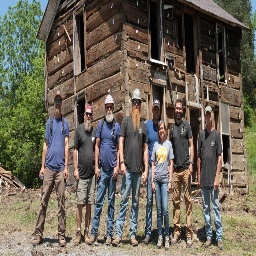helmet: (130, 88, 141, 104), (104, 93, 115, 108)
no-helmet: (151, 97, 162, 114), (202, 105, 214, 118), (84, 101, 94, 115), (173, 97, 184, 109), (54, 89, 63, 103), (158, 121, 165, 134)
no-vest: (120, 115, 150, 177), (195, 130, 220, 187), (44, 114, 67, 175), (97, 116, 120, 175), (75, 119, 96, 180), (170, 121, 193, 171), (146, 116, 162, 169), (153, 140, 171, 187)
person: (39, 86, 70, 253), (118, 84, 145, 245), (169, 98, 196, 249), (91, 95, 117, 247), (199, 105, 226, 248), (141, 95, 163, 244), (74, 99, 96, 239), (153, 123, 174, 249)
